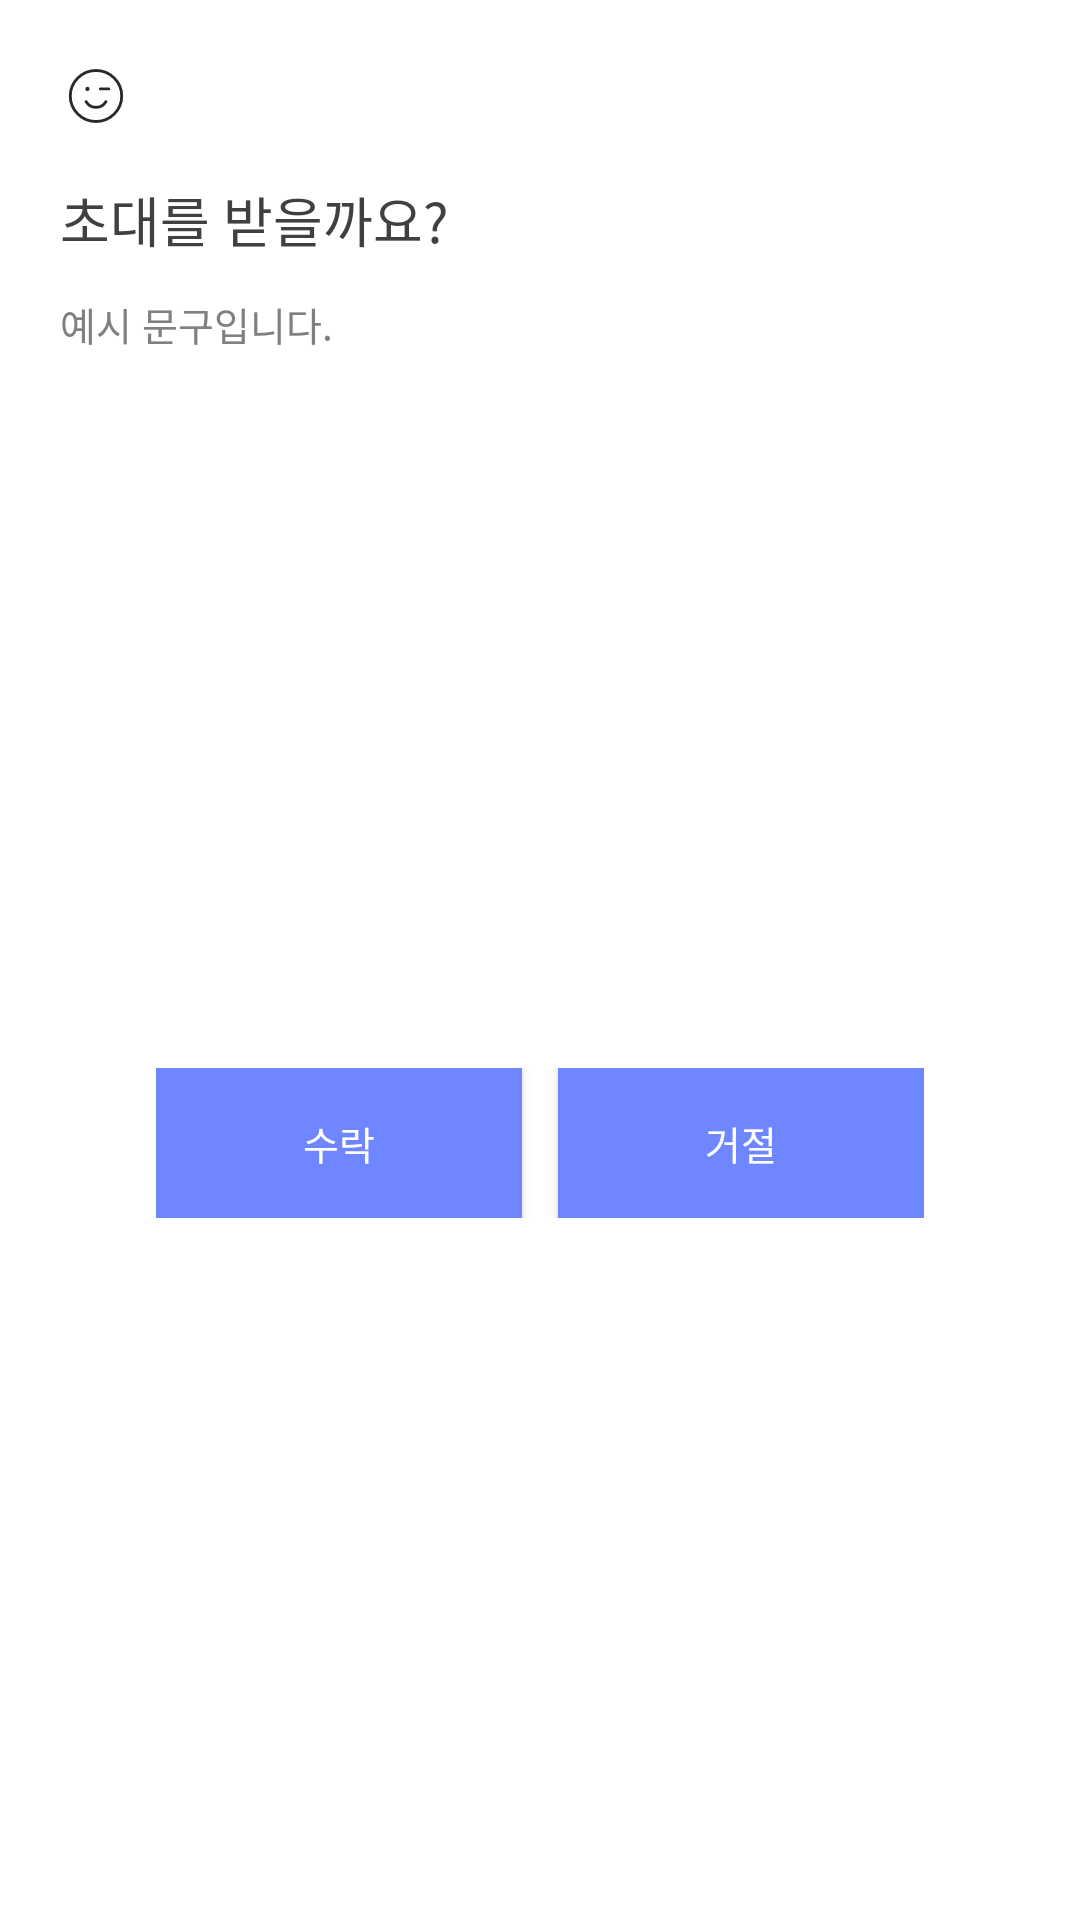

Icon bounding boxes for this 1080px x 1920px phone screenshot, format (x1, y1, x2, y2):
emoji winking face: (69, 69, 123, 123)
